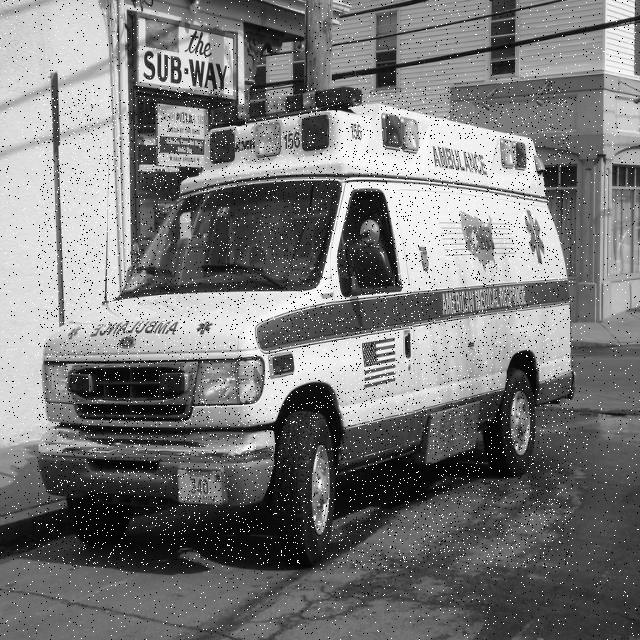Ambulance: (37, 87, 573, 569)
